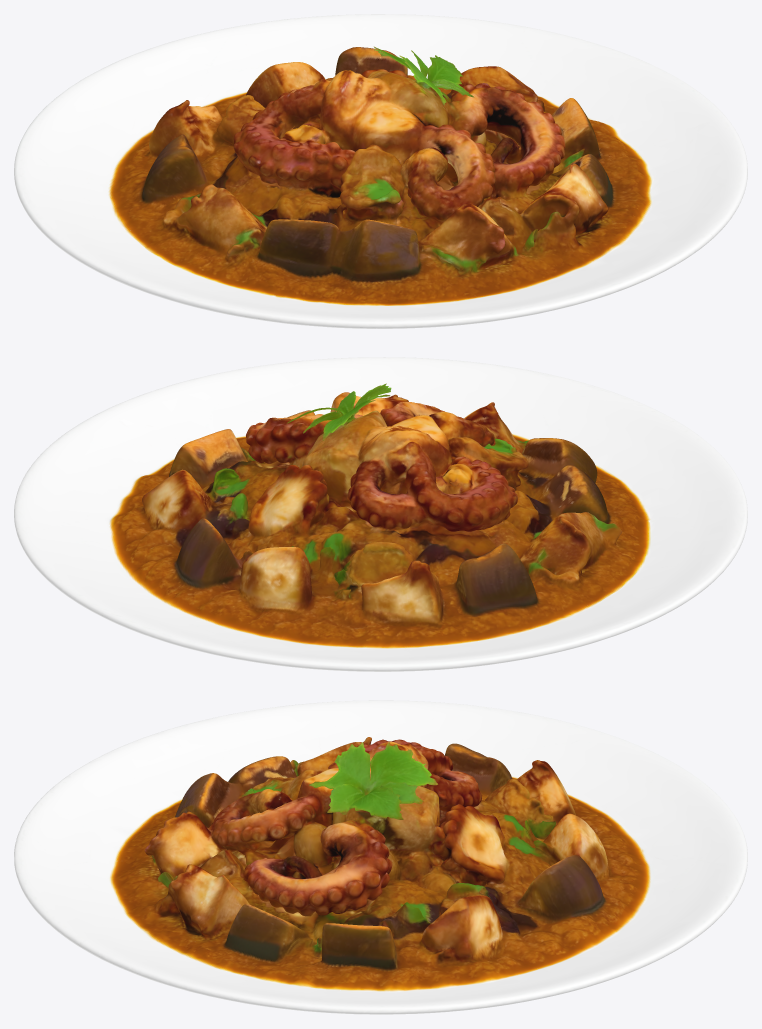
The model's file is Cari Ourite.glb.
The picture shows the model from 3 angles, top to bottom: view 1: azimuth 30°, elevation 25°; view 2: azimuth 150°, elevation 25°; view 3: azimuth 270°, elevation 25°; orthographic projection.
Parts seen in each view (by area): view 1: Mesh_0.001; view 2: Mesh_0.001; view 3: Mesh_0.001.
Part boxes in pixels (box(x1,y1,x2,y2)): Mesh_0.001: box(14, 14, 747, 328); Mesh_0.001: box(14, 357, 747, 671); Mesh_0.001: box(14, 700, 747, 1014).
Bounding box in the file's own units: 0.12 × 0.03 × 0.12.
1 material, 1 textured.
